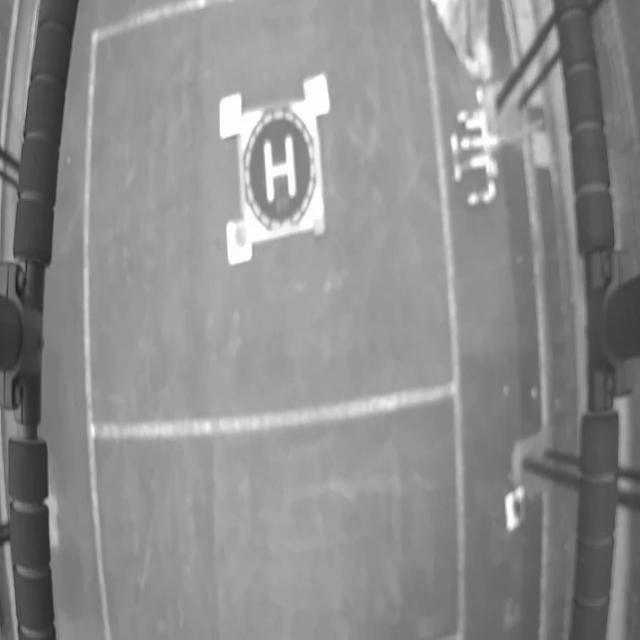Helipad: (263, 136, 297, 203)
